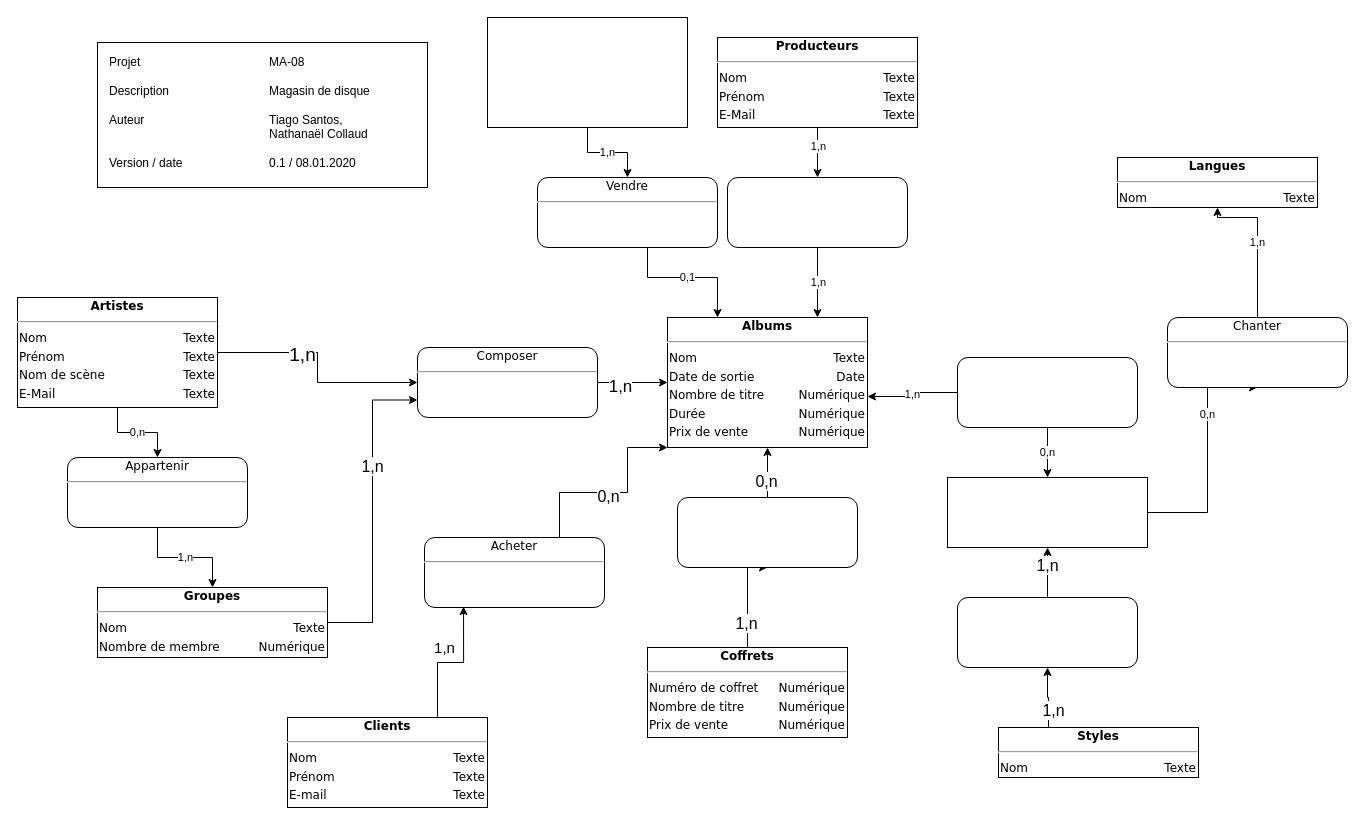
The diagram is 1365 pixels wide and 825 high, and some of its shapes have lost their labels. The centre of each missing label's shape, as x and y in pixels:
Avoir: [1047,632]
Contenir: [767,532]
Inclure: [1047,392]
Oeuvres Titre Texte Date de sortie Date: [1047,512]
Produire: [817,212]
Staffs Prénom Texte Nom Texte Date du Contrat Date Email Texte: [587,72]
